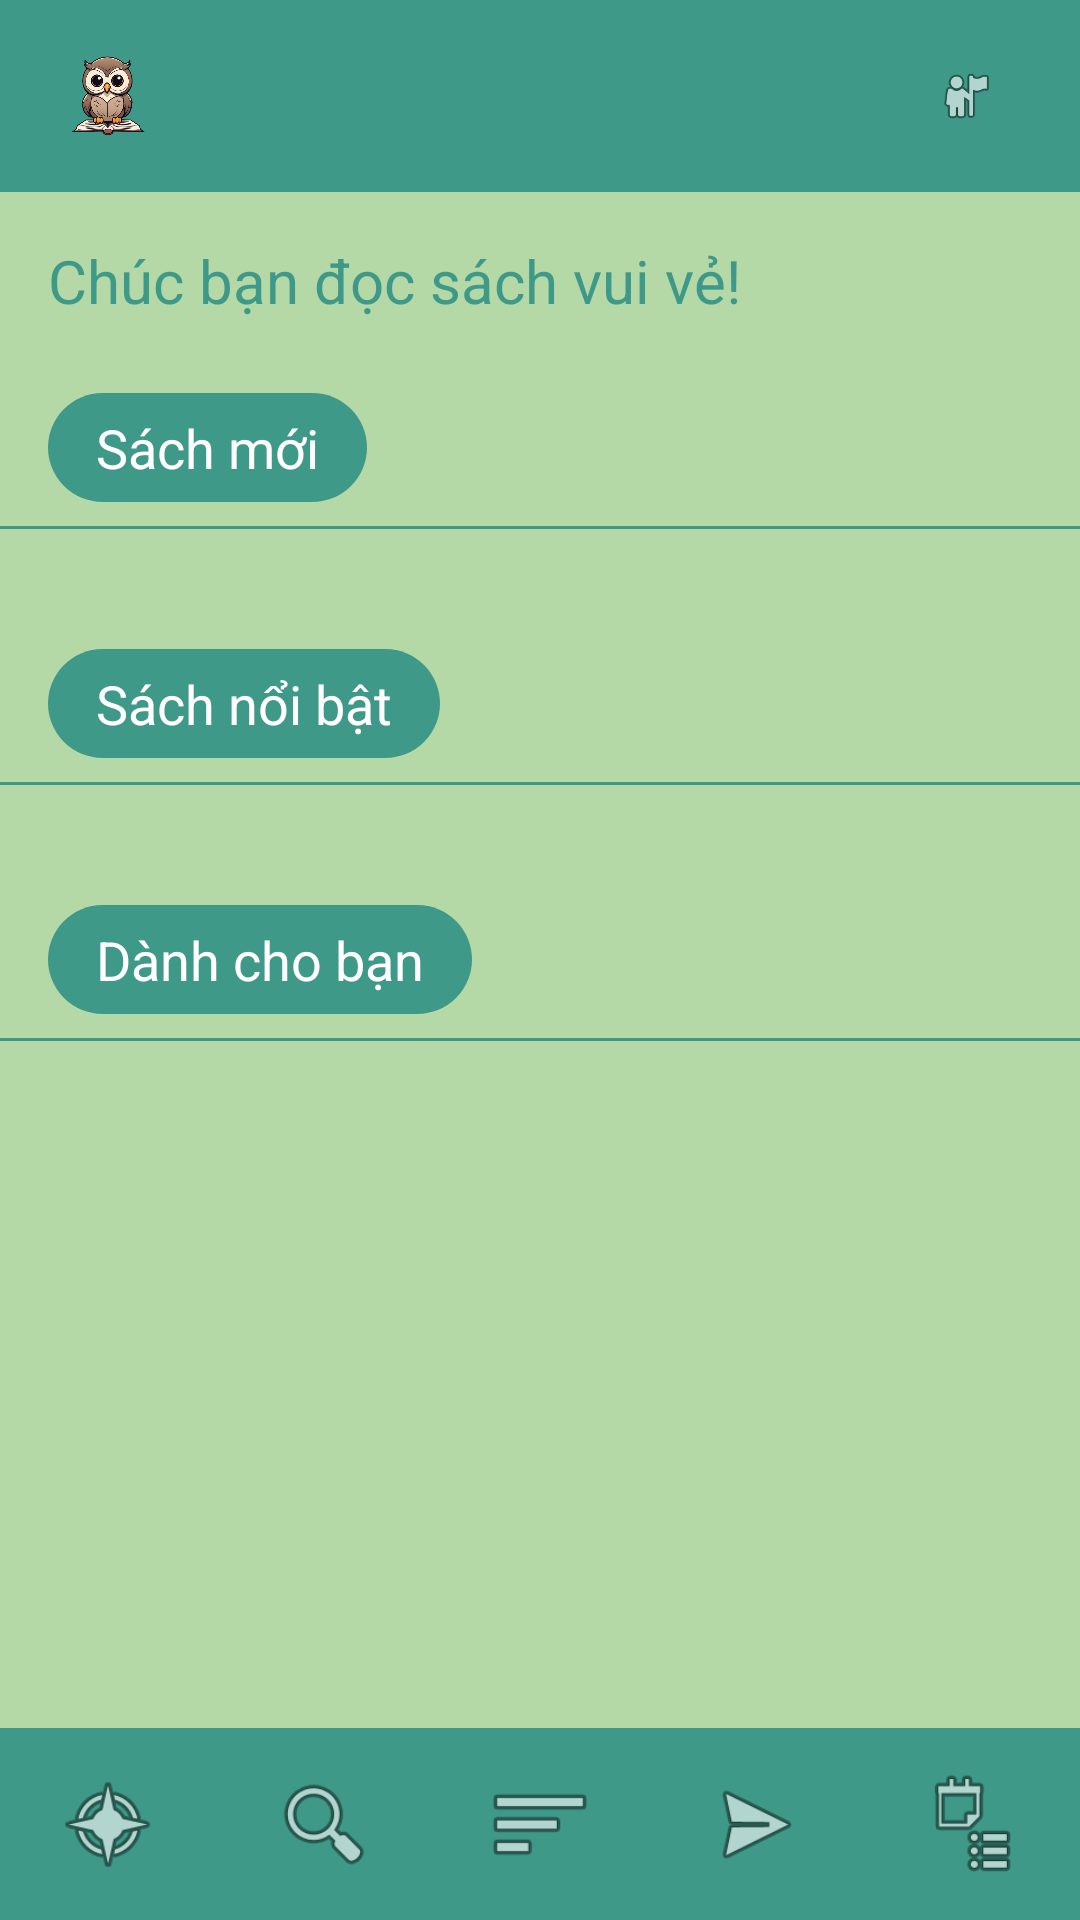

Screen size 1080w x 1920h. Icon name, then its center in pixels as [x,y]:
agenda: [972,1823]
compass: [107,1824]
search: [324,1824]
send: [757,1824]
sort by size: [540,1824]
